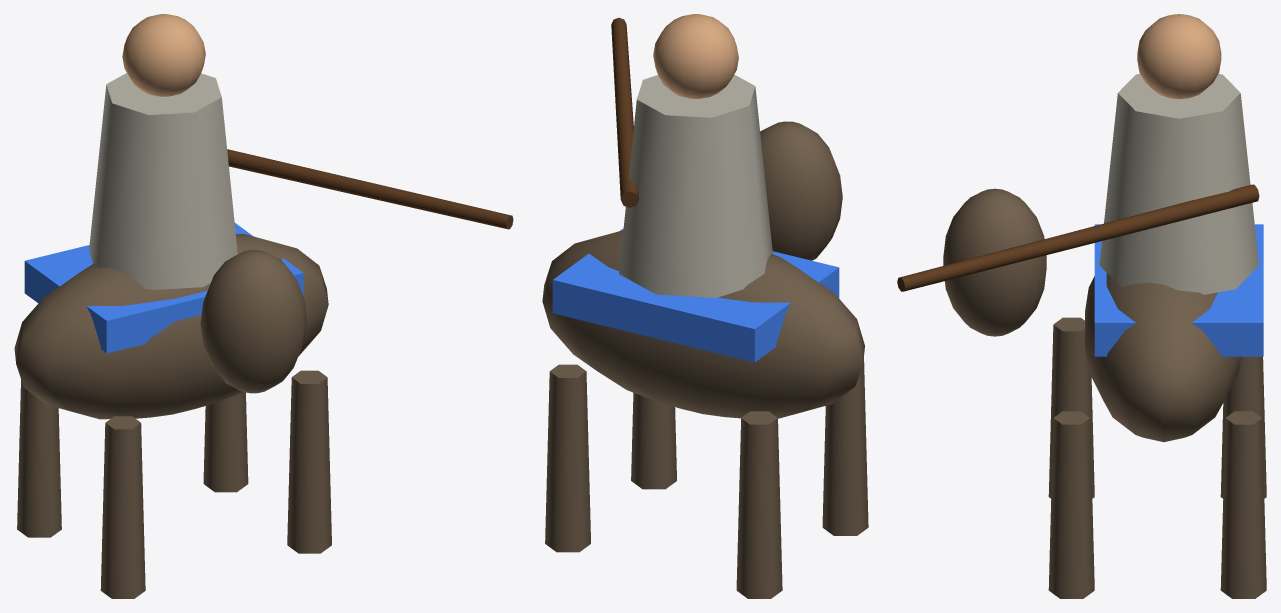
Rendered from knight.glb.
The picture shows the model from 3 angles, left to right: view 1: azimuth 30°, elevation 25°; view 2: azimuth 150°, elevation 25°; view 3: azimuth 270°, elevation 25°; orthographic projection. The views are drawn at different scales.
Parts seen in each view (by area): view 1: knight-rider-body, knight-horse-body, knight-horse-head, knight-horse-leg-3, knight-horse-leg-2, knight-team-saddlecloth, knight-horse-leg-0, knight-rider-head, knight-lance, knight-horse-leg-1; view 2: knight-rider-body, knight-horse-body, knight-team-saddlecloth, knight-horse-head, knight-horse-leg-1, knight-horse-leg-0, knight-horse-leg-2, knight-rider-head, knight-horse-leg-3, knight-lance; view 3: knight-rider-body, knight-horse-body, knight-horse-head, knight-horse-leg-1, knight-horse-leg-3, knight-team-saddlecloth, knight-lance, knight-rider-head, knight-horse-leg-2, knight-horse-leg-0.
Boxes of the visible parts, left/top/right/bottom form: knight-rider-body: left=89, top=73, right=237, bottom=289; knight-horse-body: left=14, top=234, right=328, bottom=419; knight-horse-head: left=200, top=250, right=306, bottom=393; knight-horse-leg-3: left=287, top=370, right=331, bottom=553; knight-horse-leg-2: left=100, top=416, right=145, bottom=598; knight-team-saddlecloth: left=24, top=223, right=303, bottom=353; knight-horse-leg-0: left=17, top=379, right=61, bottom=537; knight-rider-head: left=122, top=14, right=205, bottom=96; knight-lance: left=227, top=149, right=513, bottom=229; knight-horse-leg-1: left=203, top=392, right=248, bottom=492; knight-rider-body: left=619, top=74, right=772, bottom=297; knight-horse-body: left=542, top=230, right=864, bottom=418; knight-team-saddlecloth: left=552, top=228, right=839, bottom=362; knight-horse-head: left=760, top=121, right=842, bottom=260; knight-horse-leg-1: left=545, top=364, right=590, bottom=552; knight-horse-leg-0: left=736, top=411, right=782, bottom=598; knight-horse-leg-2: left=822, top=358, right=868, bottom=535; knight-rider-head: left=653, top=14, right=738, bottom=98; knight-horse-leg-3: left=631, top=392, right=676, bottom=489; knight-lance: left=611, top=17, right=638, bottom=207; knight-rider-body: left=1099, top=73, right=1258, bottom=294; knight-horse-body: left=1085, top=273, right=1241, bottom=442; knight-horse-head: left=943, top=188, right=1046, bottom=336; knight-horse-leg-1: left=1220, top=411, right=1266, bottom=598; knight-horse-leg-3: left=1048, top=411, right=1094, bottom=598; knight-team-saddlecloth: left=1094, top=224, right=1263, bottom=356; knight-lance: left=897, top=184, right=1259, bottom=291; knight-rider-head: left=1137, top=14, right=1221, bottom=99; knight-horse-leg-2: left=1048, top=317, right=1094, bottom=498; knight-horse-leg-0: left=1220, top=356, right=1266, bottom=498.
Bounding box in the file's own units: 1.43 × 1.89 × 1.2.
